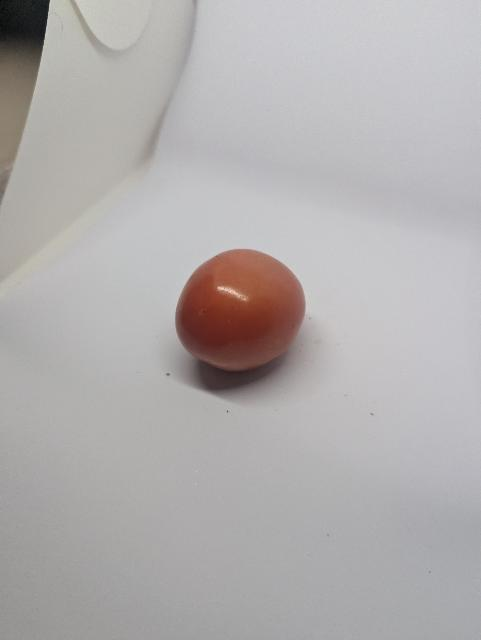red: (145, 227, 343, 396)
